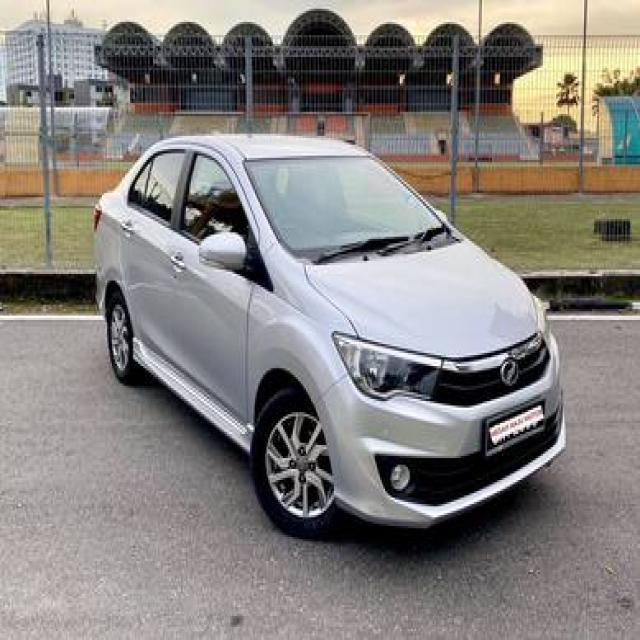PeroduaBezza: (91, 130, 567, 539)
